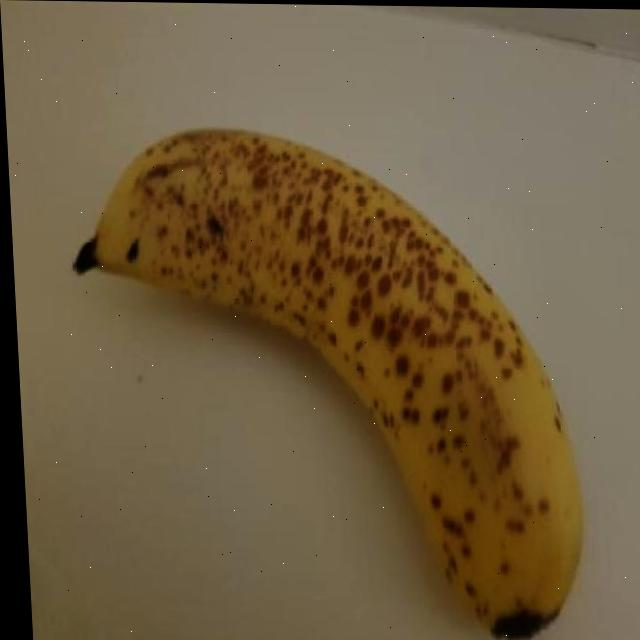banana: (64, 124, 590, 640)
